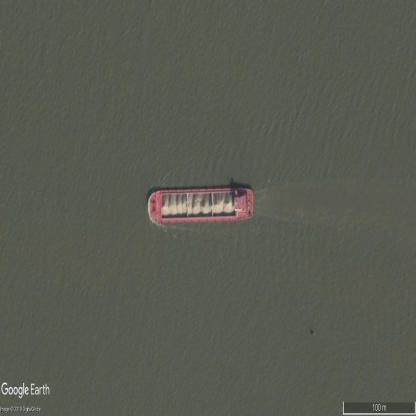ship: (148, 184, 254, 225)
